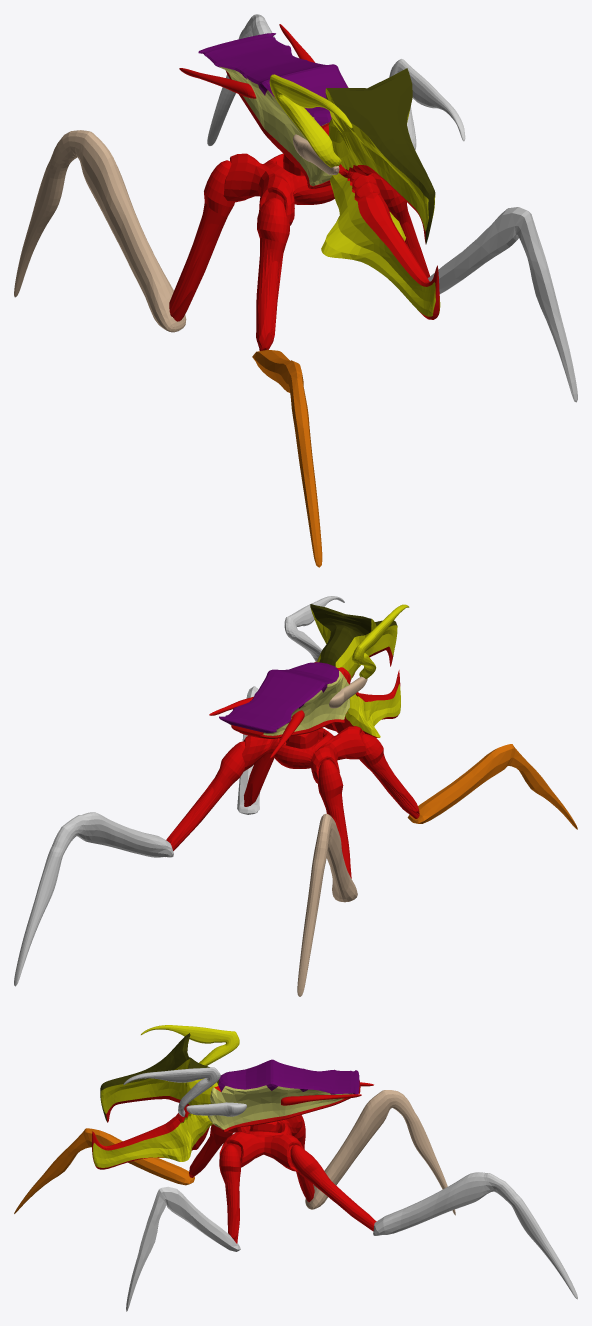
Rendered from aracnido_000016.obj.
3 views of the same model, one above another, from view 1: azimuth 30°, elevation 25°; view 2: azimuth 150°, elevation 25°; view 3: azimuth 270°, elevation 25° (orthographic). The views are drawn at different scales.
Visible parts, largest first — view 1: ARAK-BODY-; view 2: ARAK-BODY-; view 3: ARAK-BODY-.
Boxes of the visible parts, x1=… form: ARAK-BODY-: x1=14, y1=14, x2=577, y2=567; ARAK-BODY-: x1=14, y1=596, x2=577, y2=996; ARAK-BODY-: x1=14, y1=1025, x2=577, y2=1311.
Size of the model in its own units: 2.64 by 2.55 by 5.68.
